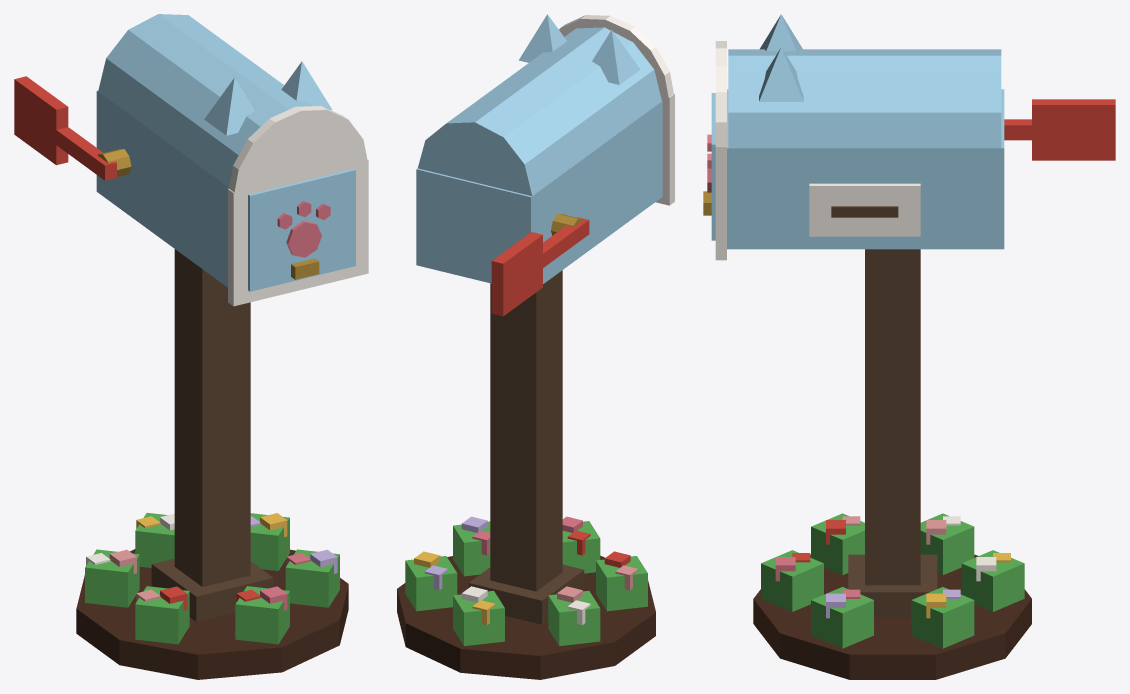
The model's file is CatCafe_Lawn_Mailbox.glb.
The picture shows the model from 3 angles, left to right: view 1: azimuth 30°, elevation 25°; view 2: azimuth 150°, elevation 25°; view 3: azimuth 270°, elevation 25°; orthographic projection. The views are drawn at different scales.
Parts seen in each view (by area): view 1: CatCafe_Lawn_Mailbox, CatCafe_Lawn_Mailbox_Flag; view 2: CatCafe_Lawn_Mailbox, CatCafe_Lawn_Mailbox_Flag; view 3: CatCafe_Lawn_Mailbox, CatCafe_Lawn_Mailbox_Flag.
Boxes of the visible parts, bbox=[...] form: CatCafe_Lawn_Mailbox: bbox=[76, 14, 368, 679]; CatCafe_Lawn_Mailbox_Flag: bbox=[14, 76, 116, 180]; CatCafe_Lawn_Mailbox: bbox=[397, 14, 674, 679]; CatCafe_Lawn_Mailbox_Flag: bbox=[491, 217, 589, 316]; CatCafe_Lawn_Mailbox: bbox=[703, 14, 1031, 679]; CatCafe_Lawn_Mailbox_Flag: bbox=[1004, 99, 1115, 160].
Size of the model in its own units: 0.9511 by 2.35 by 1.48.
1 material, 1 textured.
